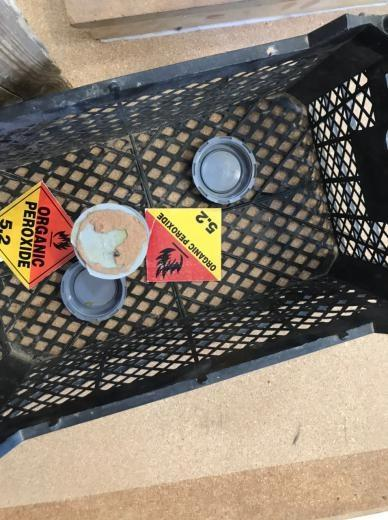organic-peroxide: (1, 180, 83, 291), (145, 207, 223, 281)
